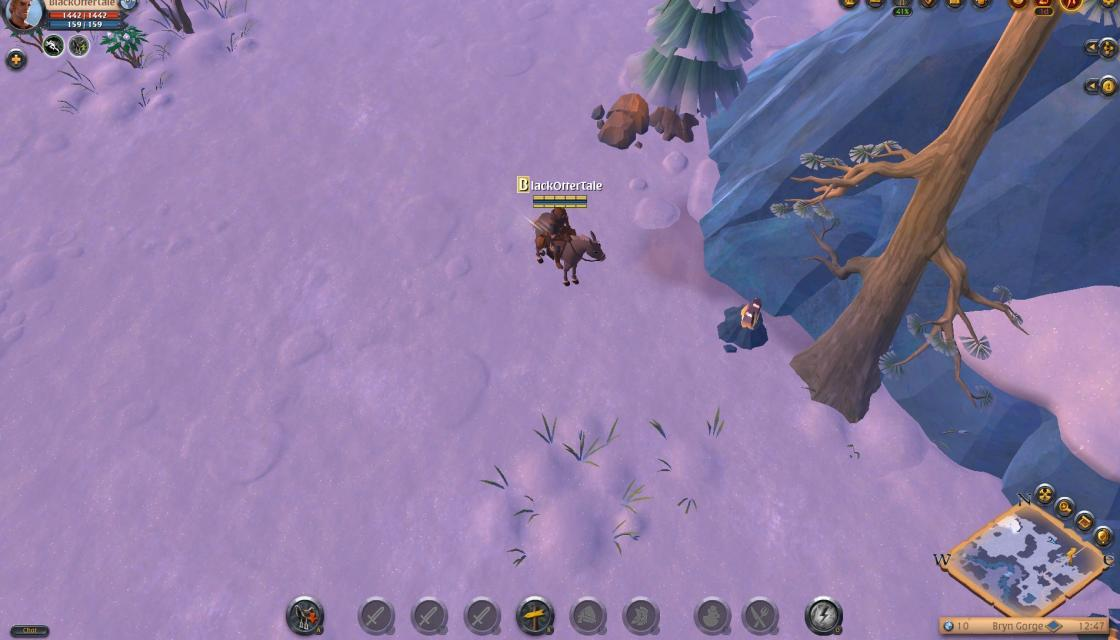copperore: (716, 294, 770, 354)
limestone: (591, 90, 651, 151)
